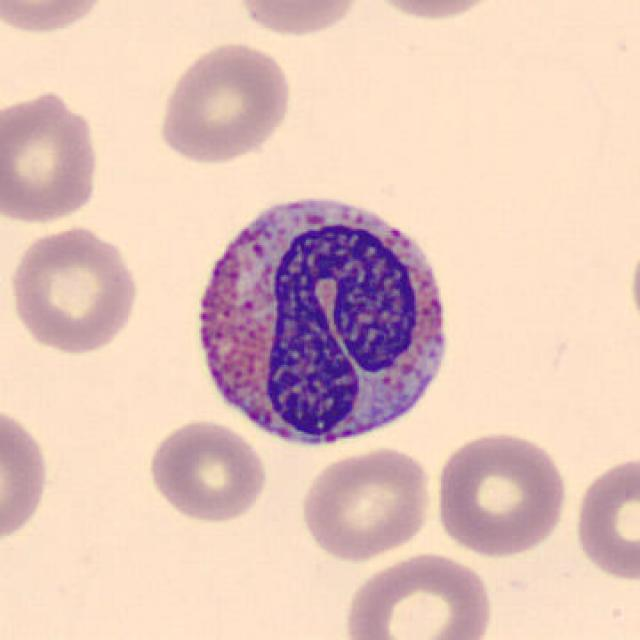Eosinophil: (180, 178, 464, 460)
RBC: (5, 222, 144, 356), (430, 427, 571, 559), (153, 37, 295, 166), (295, 442, 436, 562), (0, 84, 105, 228), (340, 548, 496, 640), (144, 416, 270, 525), (570, 449, 640, 585), (0, 400, 53, 548), (229, 0, 368, 39), (0, 0, 114, 37), (361, 0, 514, 23), (626, 222, 640, 353)
